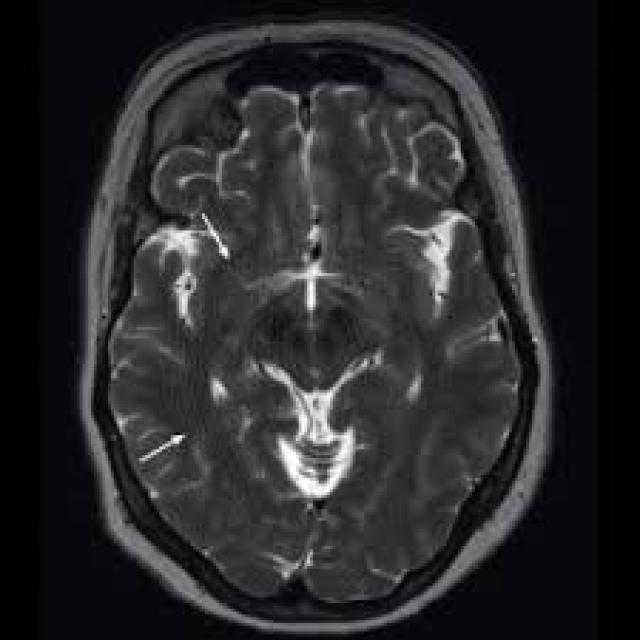notumor: (80, 17, 552, 631)
